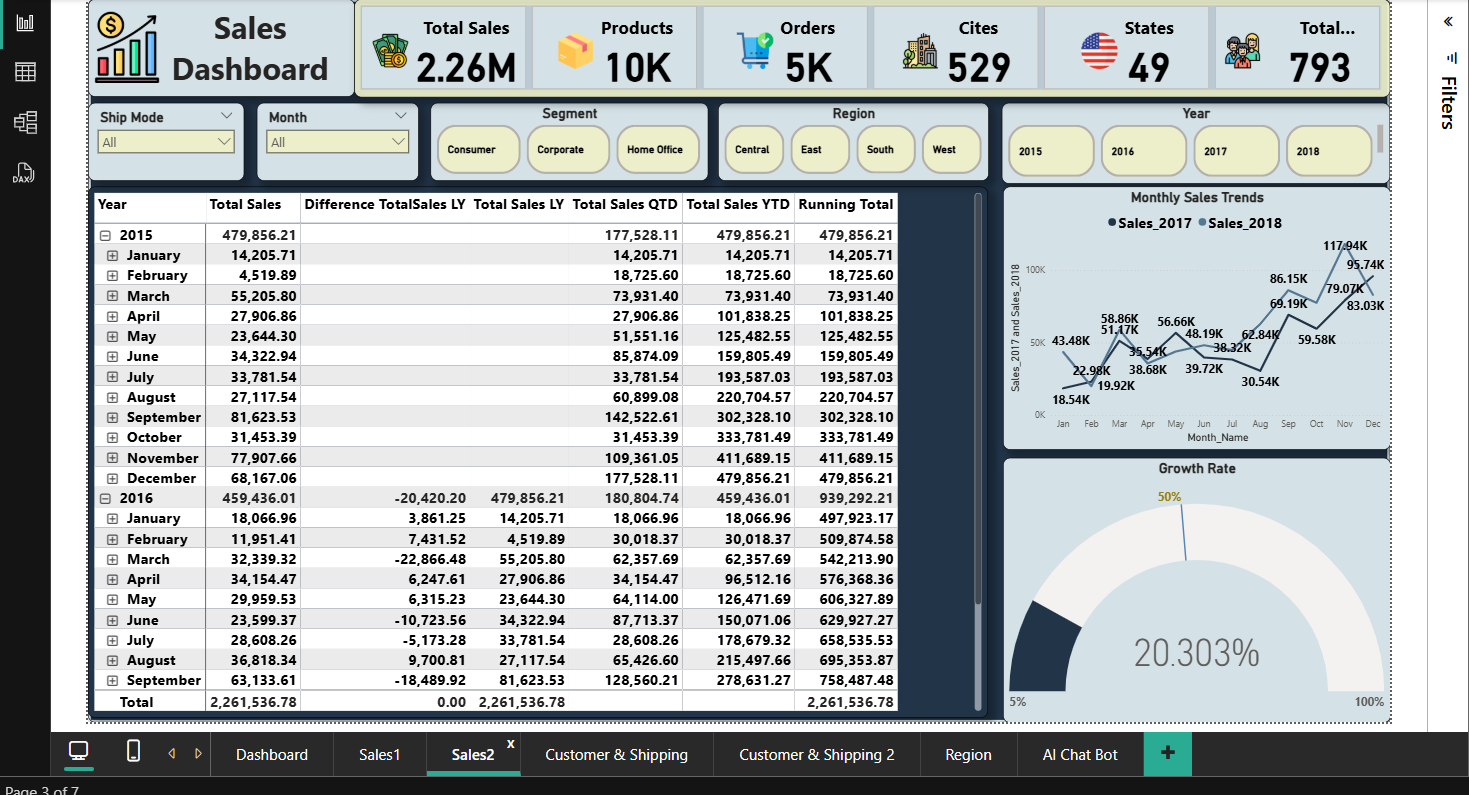

The dashboard page shown, as its layout file describes it:
{"tool":"powerbi","page":{"name":"Sales2","canvas":[1800,1000],"ordinal":2},"visuals":[{"type":"shape","box":[0,0,1800,1000.2],"z":0},{"type":"advancedSlicerVisual","fields":{"Values":["Calender_Table.Year"]},"box":[0,96.8,122.3,416.1],"z":1000},{"type":"textbox","box":[665.5,0,553.2,96.2],"z":2000},{"type":"slicer","fields":{"Values":["Calender_Table.Month_Name"]},"box":[0,535,122.3,57.7],"z":3000},{"type":"slicer","fields":{"Values":["DIM_Customer.Segment"]},"box":[0,873,122.3,127.4],"z":4000},{"type":"slicer","fields":{"Values":["DIM_Location.Region"]},"box":[0,699.7,122.3,154.6],"z":5000},{"type":"slicer","fields":{"Values":["Superstore Sales Dataset.Ship Mode"]},"box":[0,611.4,122.3,66.2],"z":6000},{"type":"cardVisual","fields":{"Data":["_Measures.Total_Sales","_Measures.Total_Products","_Measures.Total_Orders","_Measures.Total_Cites","_Measures.Total_States","_Measures.Total Customers"]},"box":[156.3,96.8,1616.9,134.2],"z":7000},{"type":"pivotTable","fields":{"Values":["_Measures.Total Sales","_Measures.Difference_TotalSales_LY","_Measures.Total_Sales_LY","_Measures.Total_Sales_QTD","_Measures.Total_Sales_YTD","_Measure.Running_Total"],"Rows":["Calender_Table.Year","Calender_Table.Month_Name"]},"box":[156.3,246.5,1108.5,753.7],"z":8000},{"type":"donutChart","title":" Each Ship Mode by Total Sales ","fields":{"Y":["_Measures.Total Sales"],"Category":["Superstore Sales Dataset.Ship Mode"]},"box":[1279.4,247,494,366.6],"z":9000},{"type":"donutChart","title":"Each Customer Segments by Total Sales","fields":{"Y":["_Measures.Total Sales"],"Category":["DIM_Customer.Segment"]},"box":[1279.4,623.3,494,364.7],"z":10000}]}

Visuals, with their boxes on the page's 1800x1000 design canvas (x1, y1, x2, y2). These are canvas units, not pixel positions in the 1469x795 screenshot, which may show the page scaled, cropped or inside an application window:
shape: l=0, t=0, r=1800, b=1000
advancedSlicerVisual - Calender_Table.Year: l=0, t=97, r=122, b=513
textbox: l=666, t=0, r=1219, b=96
slicer - Calender_Table.Month_Name: l=0, t=535, r=122, b=593
slicer - DIM_Customer.Segment: l=0, t=873, r=122, b=1000
slicer - DIM_Location.Region: l=0, t=700, r=122, b=854
slicer - Superstore Sales Dataset.Ship Mode: l=0, t=611, r=122, b=678
cardVisual - _Measures.Total_Sales x _Measures.Total_Products: l=156, t=97, r=1773, b=231
pivotTable - _Measures.Total Sales x _Measures.Difference_TotalSales_LY: l=156, t=246, r=1265, b=1000
" Each Ship Mode by Total Sales " donutChart: l=1279, t=247, r=1773, b=614
"Each Customer Segments by Total Sales" donutChart: l=1279, t=623, r=1773, b=988
